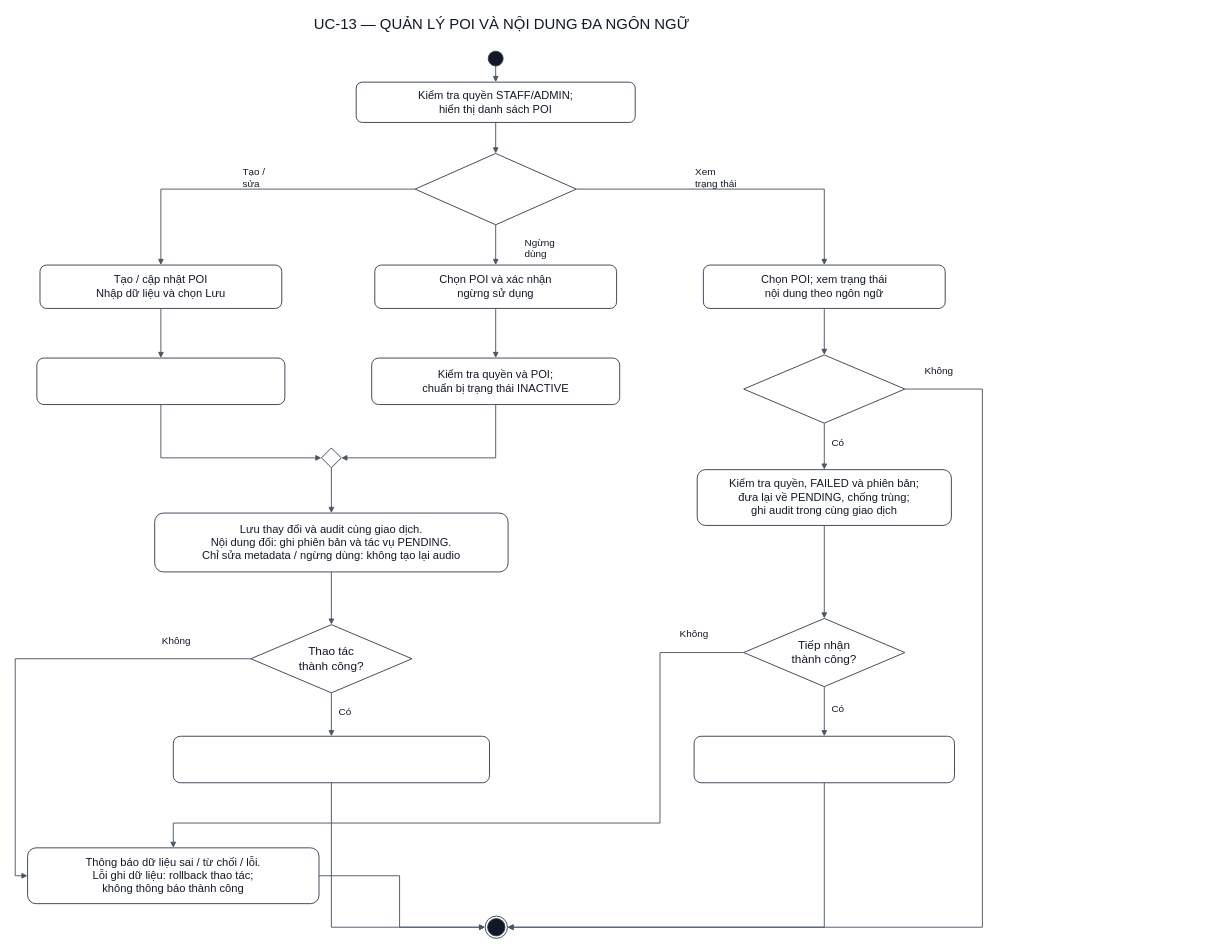
Some shapes in this 1223 by 949 pixel diagram are drawn without their labels. The shapes that lost their labels are listed below. From the top down, each one's centre as x and y in pixels, then its label:
At (495,189): "Nhân viên chọn chức năng".
At (160,381): "Kiểm tra dữ liệu, quyền, phiên bản; chuẩn bị POI và nội dung nguồn".
At (824,388): "Chọn xử lý lại tác vụ lỗi?".
At (331,759): "Thông báo đã lưu và trạng thái nội dung; không chờ dịch / tạo audio hoàn tất".
At (824,759): "Thông báo đã tiếp nhận yêu cầu xử lý lại".
